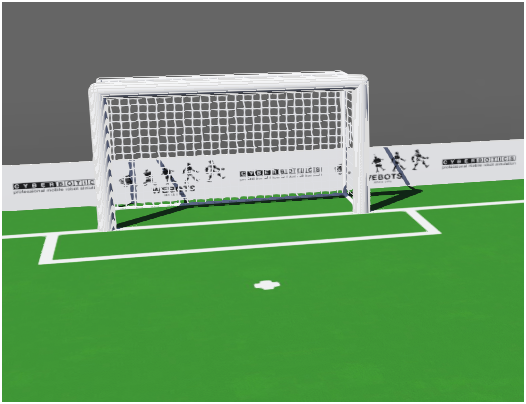Goal: (64, 60, 466, 253)
